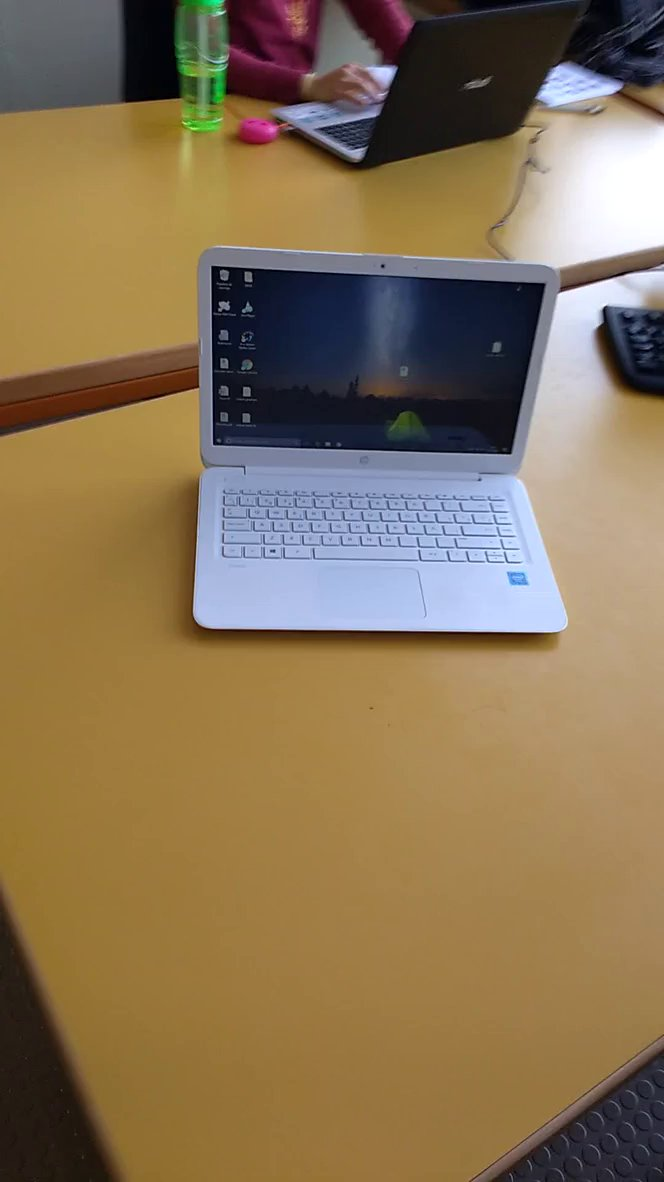laptop: (179, 233, 614, 655)
